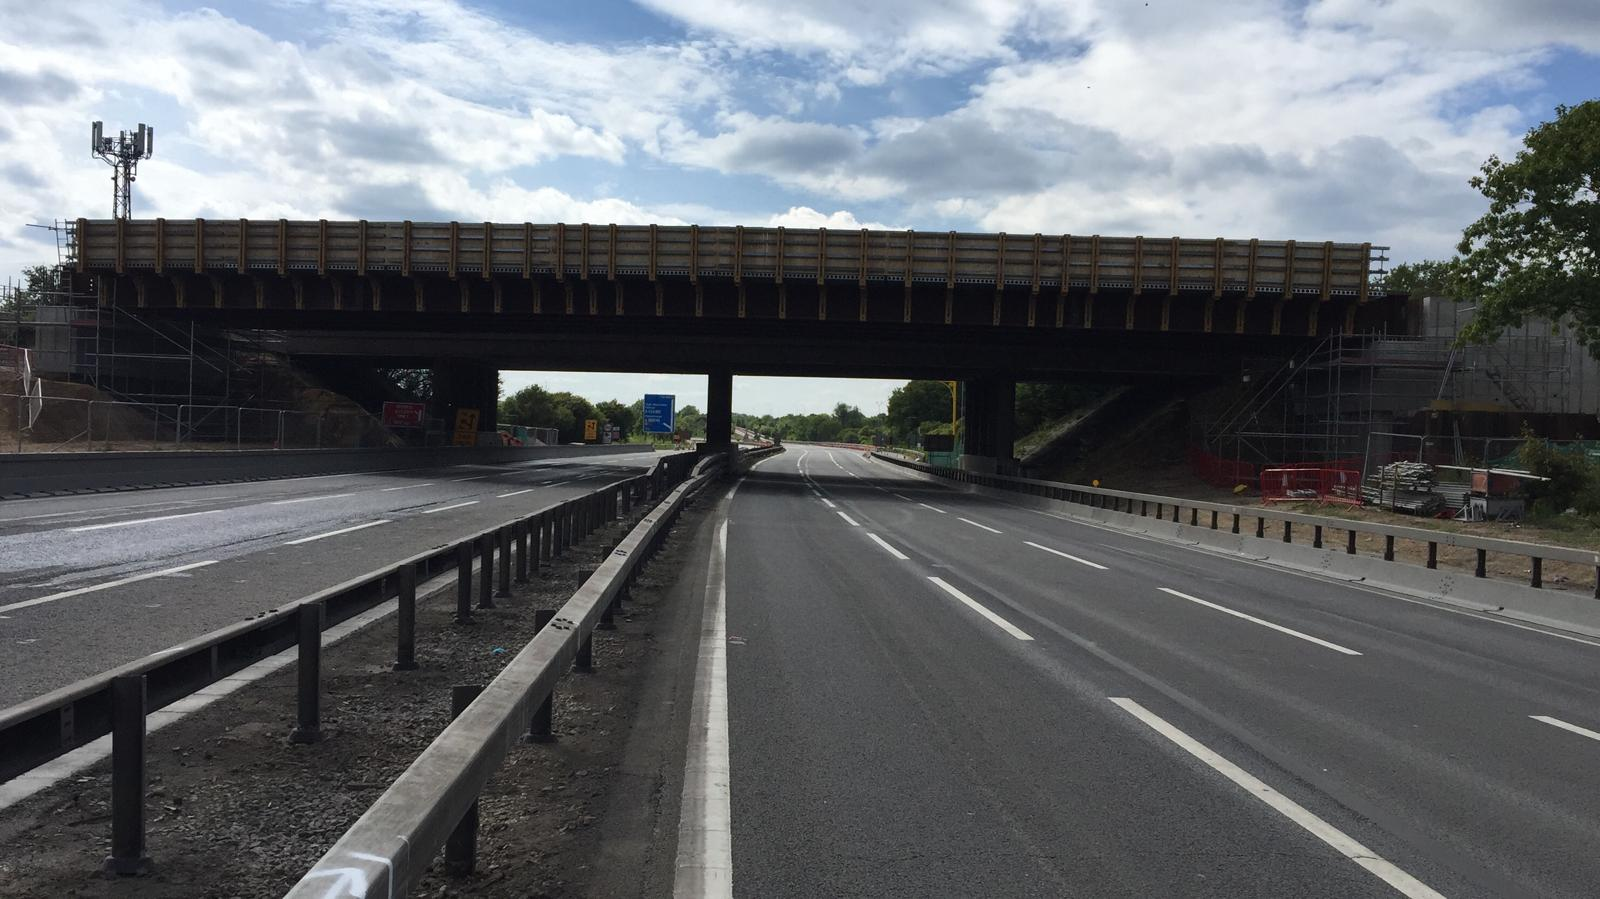bridge: (76, 213, 1378, 396)
